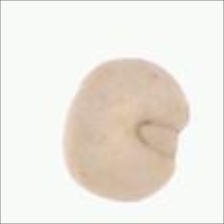L5: (131, 114, 184, 162)
L6: (59, 55, 194, 207)
